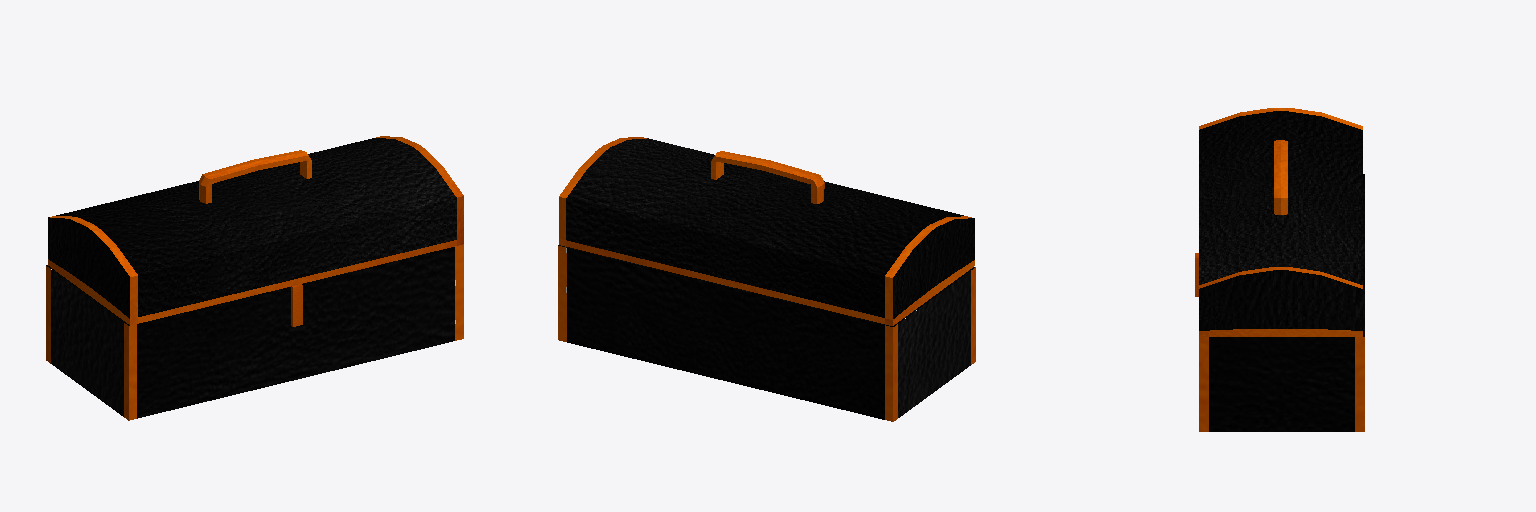
3 views of the same model, side by side, from view 1: azimuth 30°, elevation 25°; view 2: azimuth 150°, elevation 25°; view 3: azimuth 270°, elevation 25° (orthographic).
Parts seen in each view (by area): view 1: top_Cube.002, toolBox_Plane; view 2: top_Cube.002, toolBox_Plane; view 3: top_Cube.002, toolBox_Plane.
Part boxes in pixels (x1,y1,x2,y2): top_Cube.002: (48,136,463,325); toolBox_Plane: (46,244,463,420); top_Cube.002: (559,137,974,325); toolBox_Plane: (558,245,975,421); top_Cube.002: (1199,108,1362,336); toolBox_Plane: (1195,174,1364,431).
Bounding box in the file's own units: 4.89 × 2.63 × 2.13.
2 materials, 2 textured.